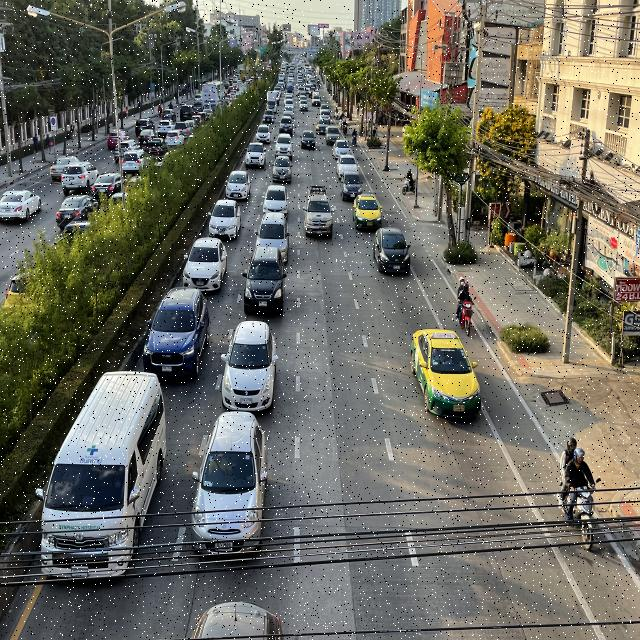bike: (555, 426, 604, 558), (455, 269, 477, 338)
car: (35, 368, 164, 586), (189, 408, 270, 560), (410, 327, 482, 423), (142, 287, 212, 380), (220, 320, 278, 410), (243, 246, 287, 318), (182, 238, 228, 292), (372, 224, 412, 276), (253, 212, 290, 261), (207, 198, 242, 240), (352, 192, 383, 231), (262, 185, 290, 218), (225, 170, 251, 200), (340, 170, 363, 201), (272, 156, 292, 183)
truck: (303, 185, 335, 239)
